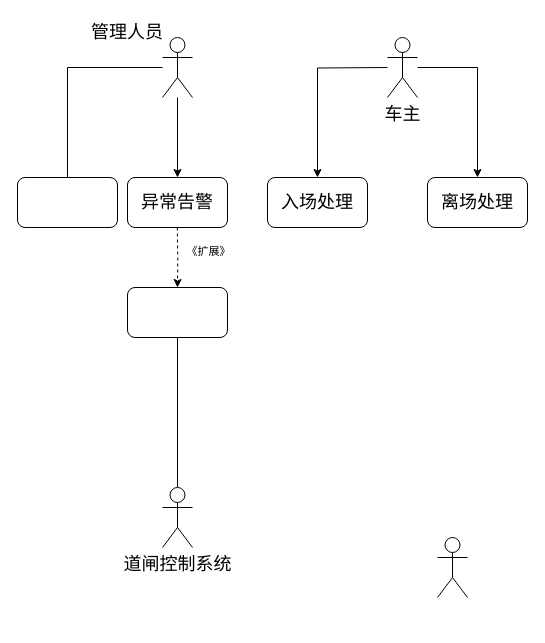
This 545x643 diagram has some shape labels left out. Each missing label, with the box of its shape:
信息维护: (16, 176, 118, 228)
支付系统: (436, 536, 468, 598)
道闸控制: (126, 286, 228, 338)
